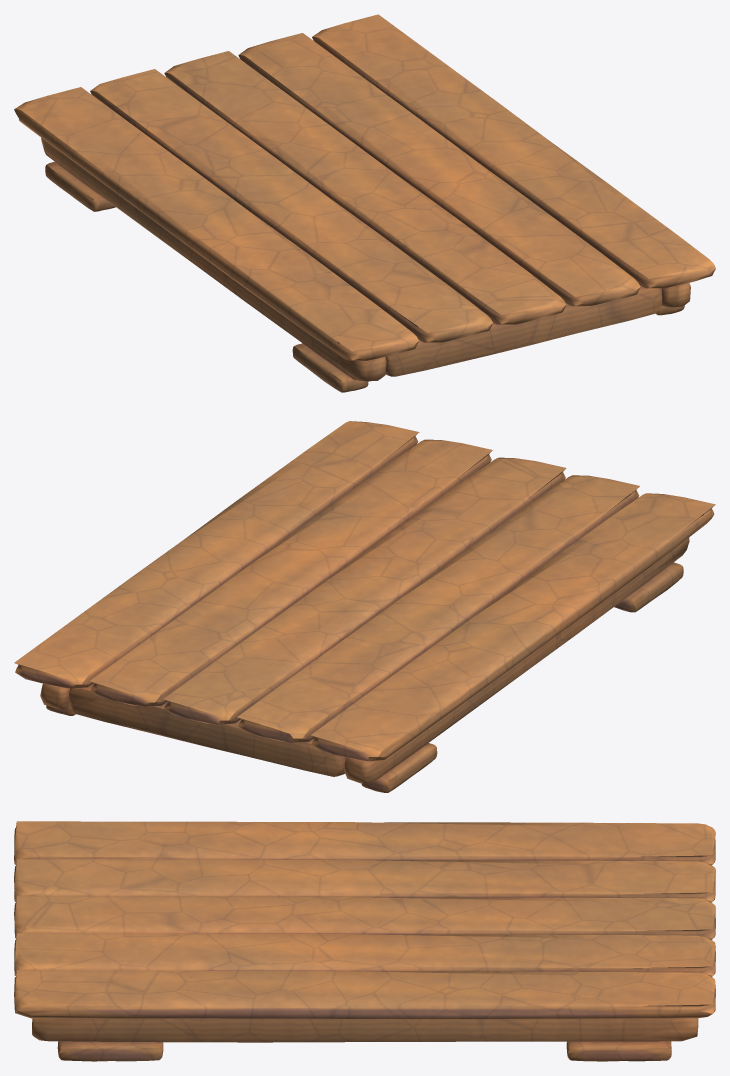
File: T07_ThinTimberPlatform.fbx
3 views of the same model, one above another, from view 1: azimuth 30°, elevation 25°; view 2: azimuth 150°, elevation 25°; view 3: azimuth 270°, elevation 25° (orthographic). The views are drawn at different scales.
Parts seen in each view (by area): view 1: T07_ThinTimberPlatform; view 2: T07_ThinTimberPlatform; view 3: T07_ThinTimberPlatform.
Part boxes in pixels (bbox=[...]): T07_ThinTimberPlatform: bbox=[14, 14, 715, 392]; T07_ThinTimberPlatform: bbox=[14, 421, 715, 792]; T07_ThinTimberPlatform: bbox=[14, 821, 715, 1061].
Size of the model in its own units: 2.5 by 0.4024 by 4.
